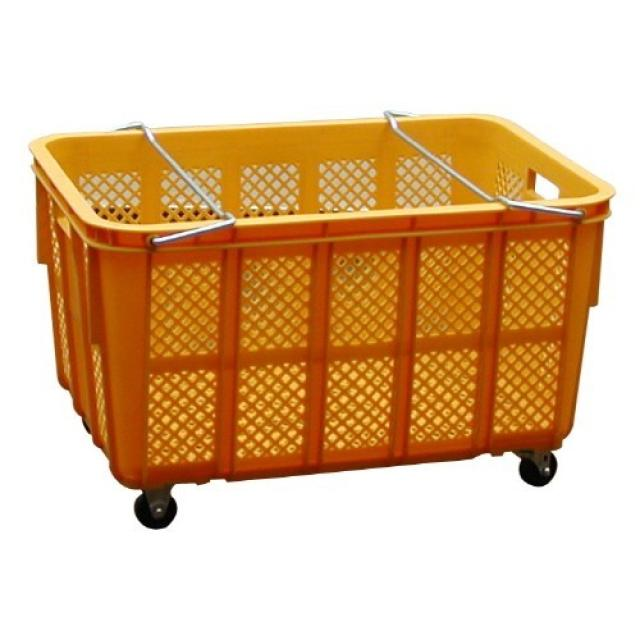basket: (30, 106, 628, 533)
